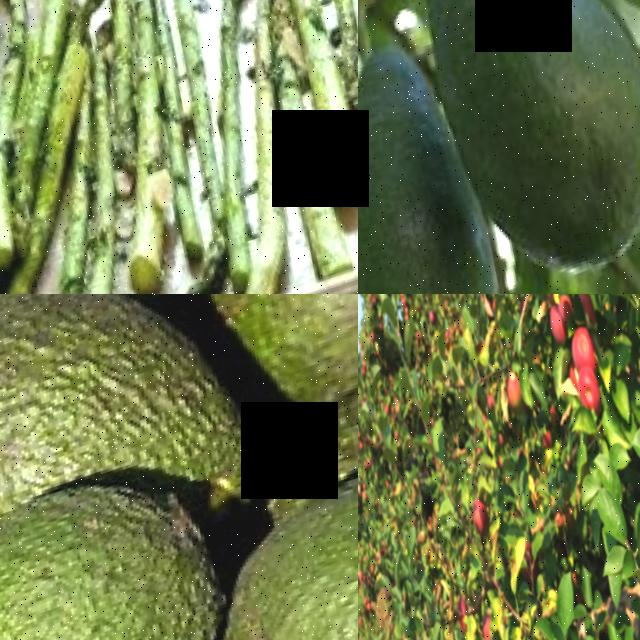apple: (573, 364, 616, 430), (566, 318, 608, 377), (546, 300, 578, 354), (503, 365, 535, 418), (476, 497, 507, 538), (539, 294, 575, 306)
asparagus: (52, 0, 232, 294), (241, 0, 358, 294), (161, 0, 303, 204), (246, 0, 358, 212), (0, 63, 71, 276)
avocado: (0, 294, 297, 633), (364, 0, 640, 294), (0, 446, 294, 640), (358, 33, 564, 294), (142, 458, 358, 640), (164, 294, 358, 459)
